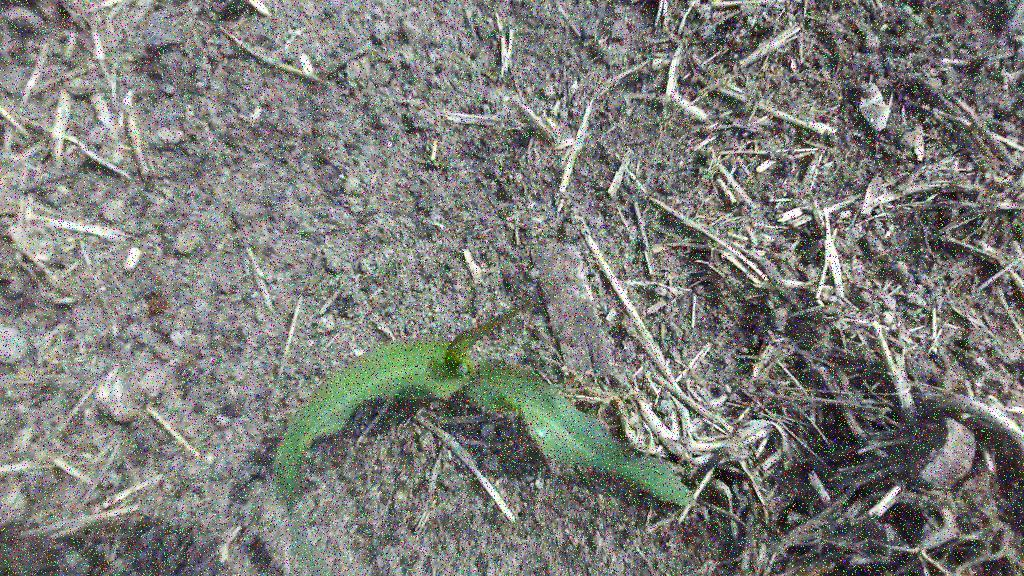BroWeed: (465, 57, 483, 86), (147, 294, 168, 316), (704, 164, 722, 182), (706, 63, 727, 77), (698, 165, 709, 186), (77, 443, 97, 454)
Maize: (248, 268, 698, 576)
